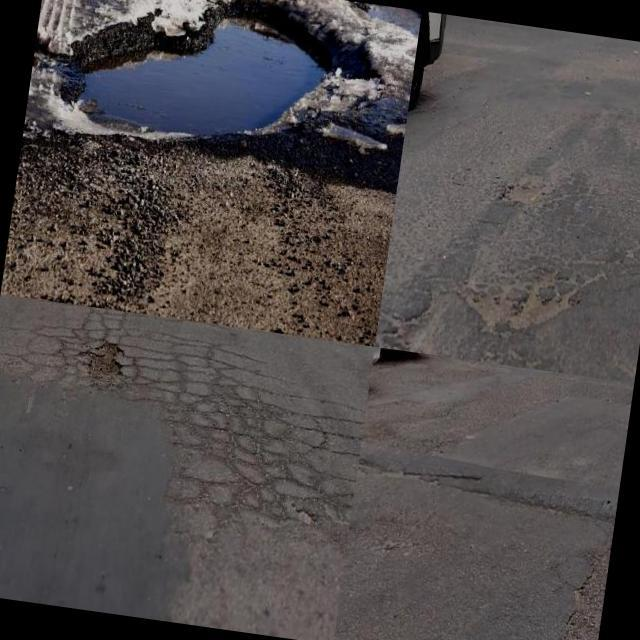Pothole: (60, 0, 340, 137), (461, 281, 577, 336), (351, 1, 422, 36), (80, 338, 126, 379), (496, 179, 543, 204)
